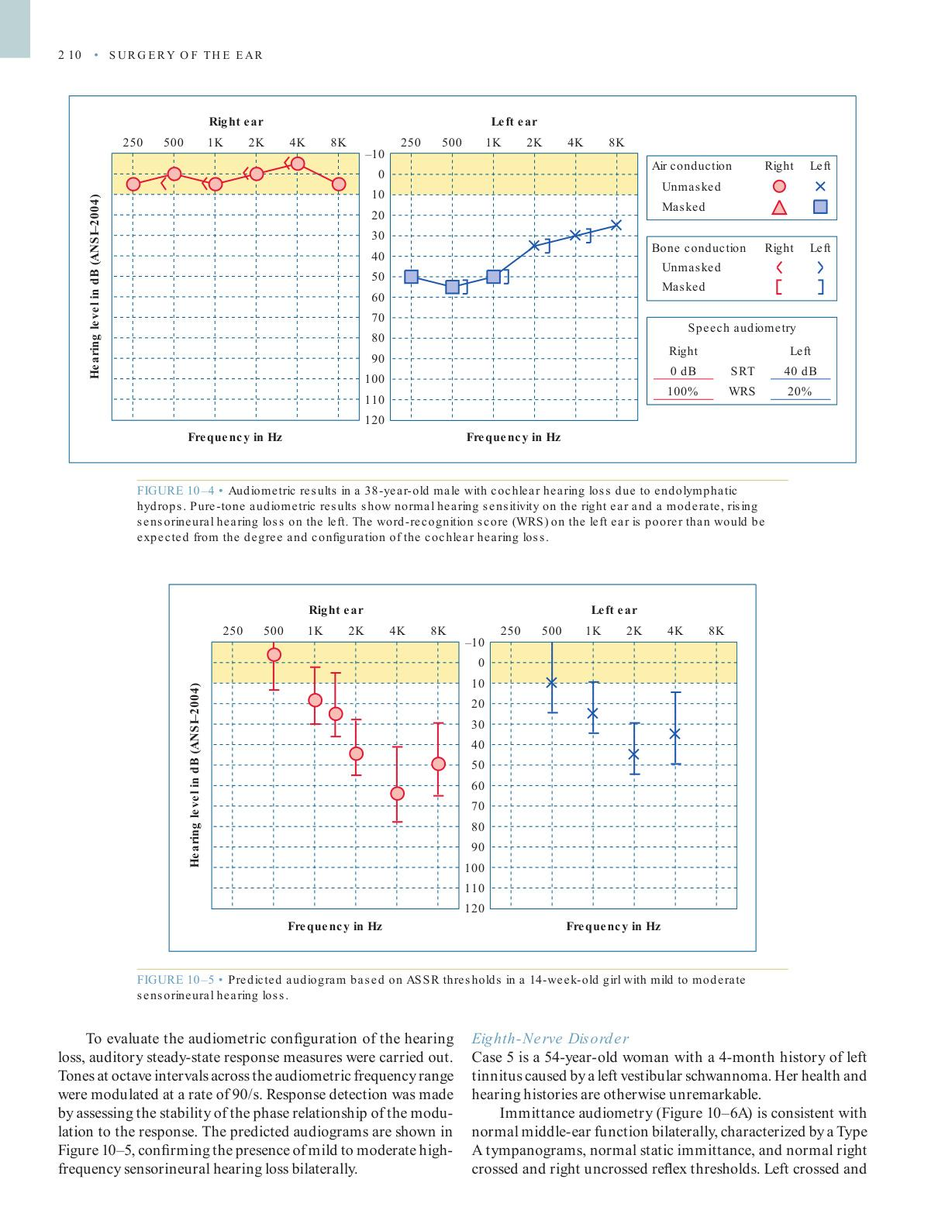caption: (134, 482, 765, 546), (135, 972, 749, 1003)
header: (108, 49, 264, 61)
image: (72, 98, 852, 459), (174, 587, 751, 945)
sub-section-heading: (470, 1031, 631, 1048)
text: (55, 1027, 455, 1178), (469, 1049, 869, 1178)
